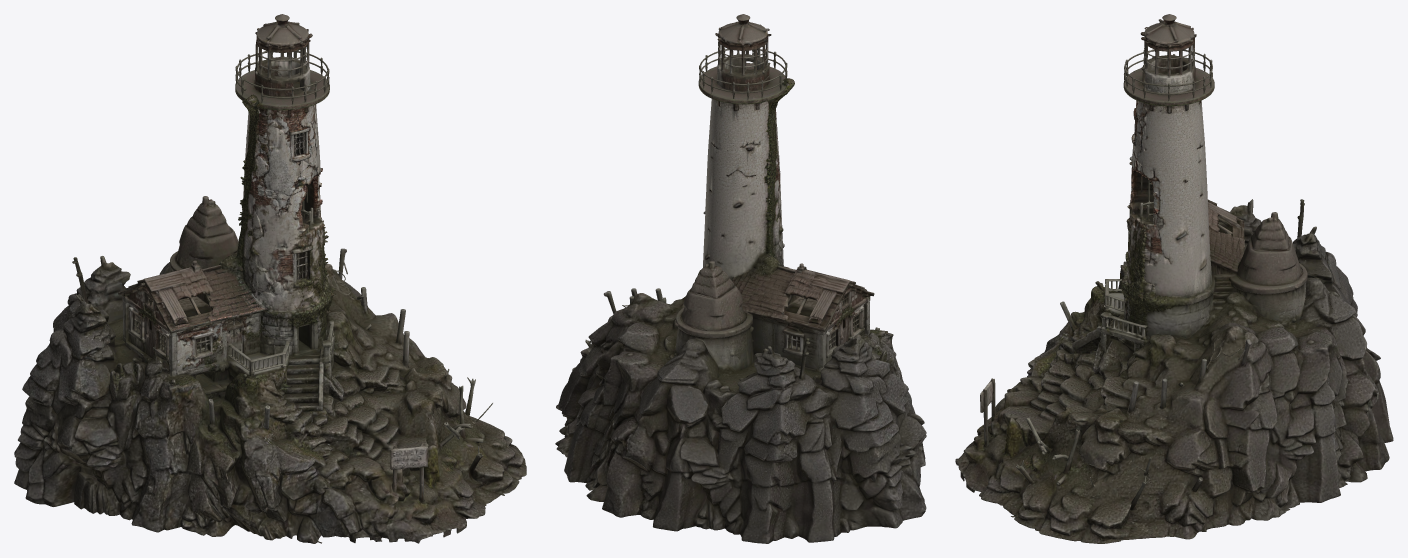
The model's file is post-apocalyptic-lighthouse.glb.
3 renders of one model, left to right at view 1: azimuth 30°, elevation 25°; view 2: azimuth 150°, elevation 25°; view 3: azimuth 270°, elevation 25°, orthographic. The views are drawn at different scales.
Visible parts, largest first — view 1: tripo_node_4496603e-7986-4afe-8b84-2843c611d68b; view 2: tripo_node_4496603e-7986-4afe-8b84-2843c611d68b; view 3: tripo_node_4496603e-7986-4afe-8b84-2843c611d68b.
Part boxes in pixels (x1,y1,x2,y2): tripo_node_4496603e-7986-4afe-8b84-2843c611d68b: (14,14,526,543); tripo_node_4496603e-7986-4afe-8b84-2843c611d68b: (555,14,926,543); tripo_node_4496603e-7986-4afe-8b84-2843c611d68b: (955,14,1393,543).
Bounding box in the file's own units: 0.9424 × 0.9774 × 0.8807.
Materials: 1 (1 with a texture image).
